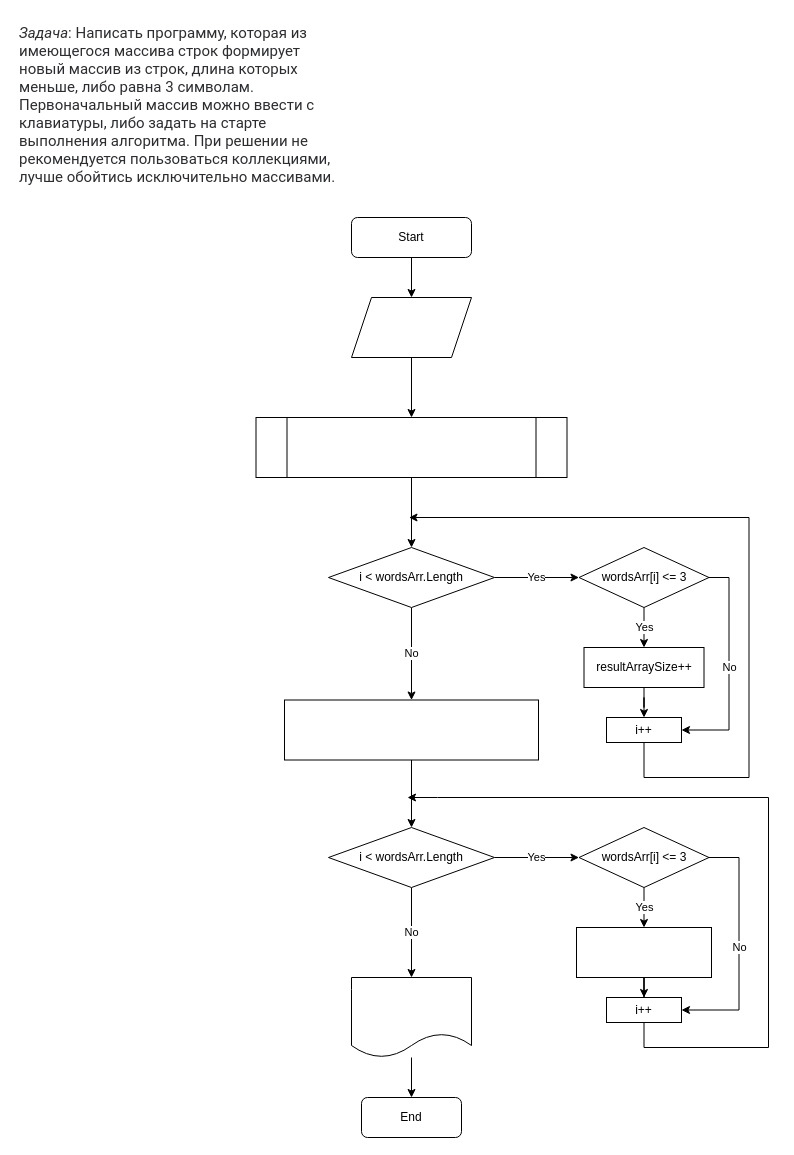
Image size: 794x1155. Some labels were removed from this diagram. Here are the shapes that lost their labels. From the top down, the box of each, then its label:
(350, 296, 472, 358): sizeArr
(255, 416, 567, 478): string[] wordsArr = InputStringArray[sizeArr] int i = 0 resultArraySize = 0
(284, 699, 538, 760): string[] resultArr = new string[resultArraySize] i = 0 int j = 0
(576, 926, 712, 978): resultArr[j] = wordsArr[i] j++
(350, 976, 472, 1058): PrintArray(resultArr)
